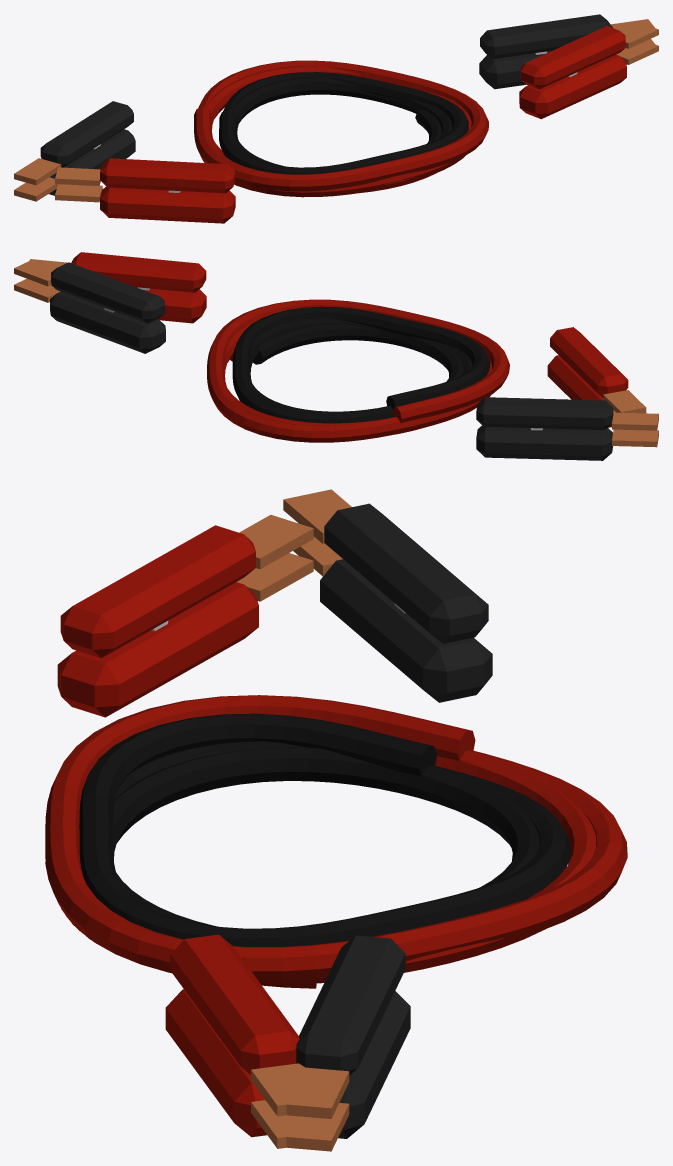
File: cabos_chupeta.glb
3 views of the same model, one above another, from view 1: azimuth 30°, elevation 25°; view 2: azimuth 150°, elevation 25°; view 3: azimuth 270°, elevation 25° (orthographic). The views are drawn at different scales.
Parts seen in each view (by area): view 1: cabos_chupeta_vermelho_borne, cabos_chupeta_fio_vermelho, cabos_chupeta_fio_preto, cabos_chupeta_plastico_preto, cabos_chupeta_cobre; view 2: cabos_chupeta_plastico_preto, cabos_chupeta_fio_preto, cabos_chupeta_fio_vermelho, cabos_chupeta_vermelho_borne, cabos_chupeta_cobre; view 3: cabos_chupeta_fio_preto, cabos_chupeta_vermelho_borne, cabos_chupeta_fio_vermelho, cabos_chupeta_plastico_preto, cabos_chupeta_cobre.
Boxes of the visible parts, x1,y1,x2,y2 form: cabos_chupeta_vermelho_borne: [100, 26, 626, 223]; cabos_chupeta_fio_vermelho: [194, 60, 488, 197]; cabos_chupeta_fio_preto: [219, 72, 468, 174]; cabos_chupeta_plastico_preto: [40, 14, 612, 195]; cabos_chupeta_cobre: [14, 19, 658, 202]; cabos_chupeta_plastico_preto: [50, 262, 613, 460]; cabos_chupeta_fio_preto: [232, 306, 490, 423]; cabos_chupeta_fio_vermelho: [207, 299, 509, 442]; cabos_chupeta_vermelho_borne: [71, 252, 628, 427]; cabos_chupeta_cobre: [14, 259, 658, 447]; cabos_chupeta_fio_preto: [79, 713, 570, 946]; cabos_chupeta_vermelho_borne: [57, 525, 299, 1137]; cabos_chupeta_fio_vermelho: [45, 695, 627, 988]; cabos_chupeta_plastico_preto: [296, 503, 492, 1138]; cabos_chupeta_cobre: [237, 489, 351, 1151].
Size of the model in its own units: 0.491 by 0.0422 by 0.1953.
